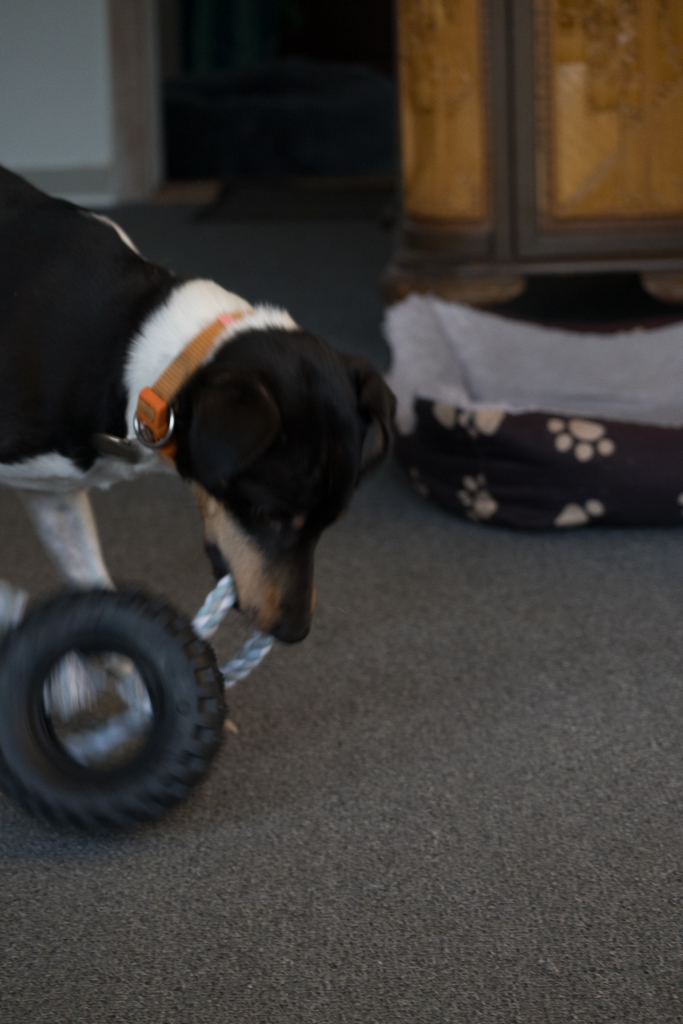Dog: (0, 149, 422, 688)
